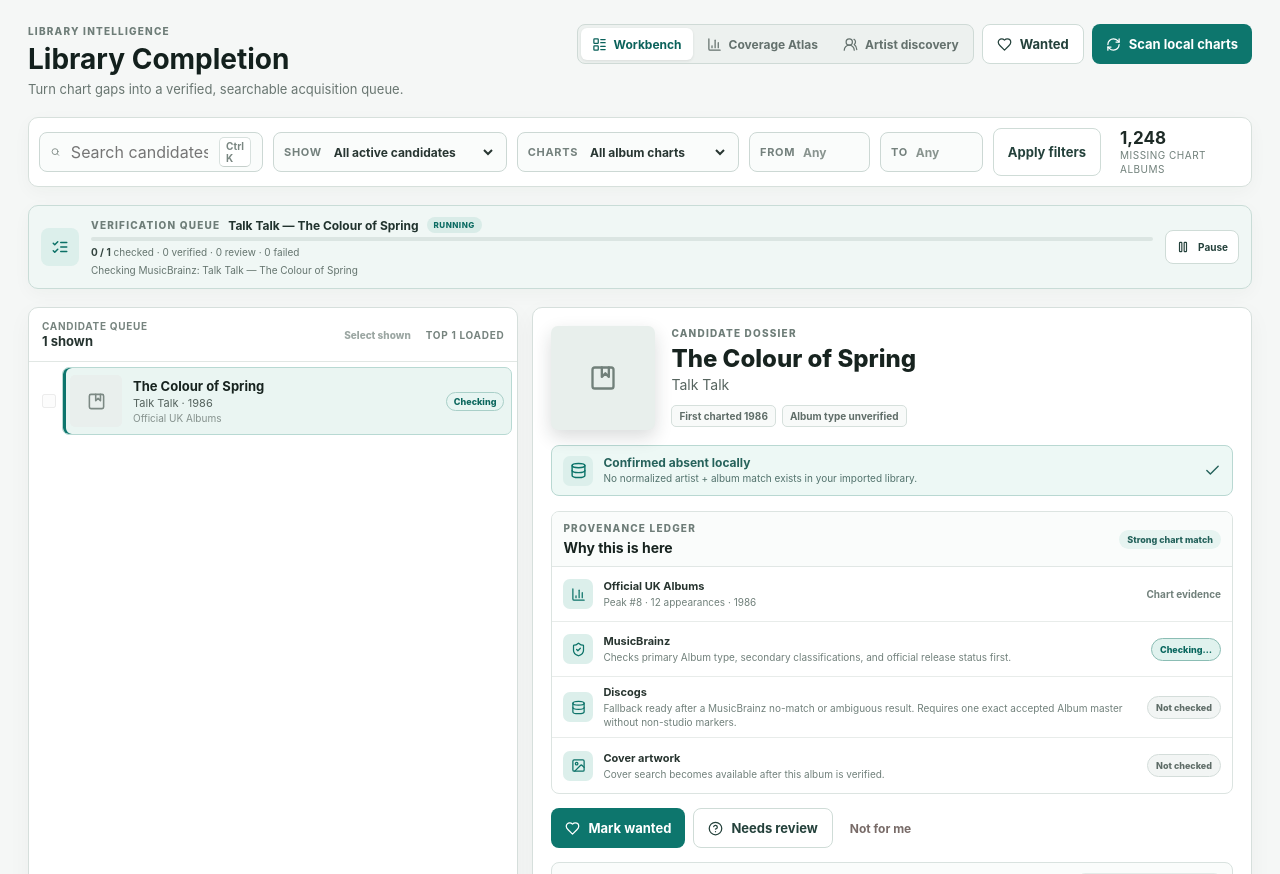
Test: LibraryCompletionWorkspace › pauses a running verification batch without discarding progress
Check: the text "0 / 1" is shown, box left=91, top=246, right=111, bottom=258
Click the button "Pause": click(1202, 247) left=1165, top=230, right=1239, bottom=264
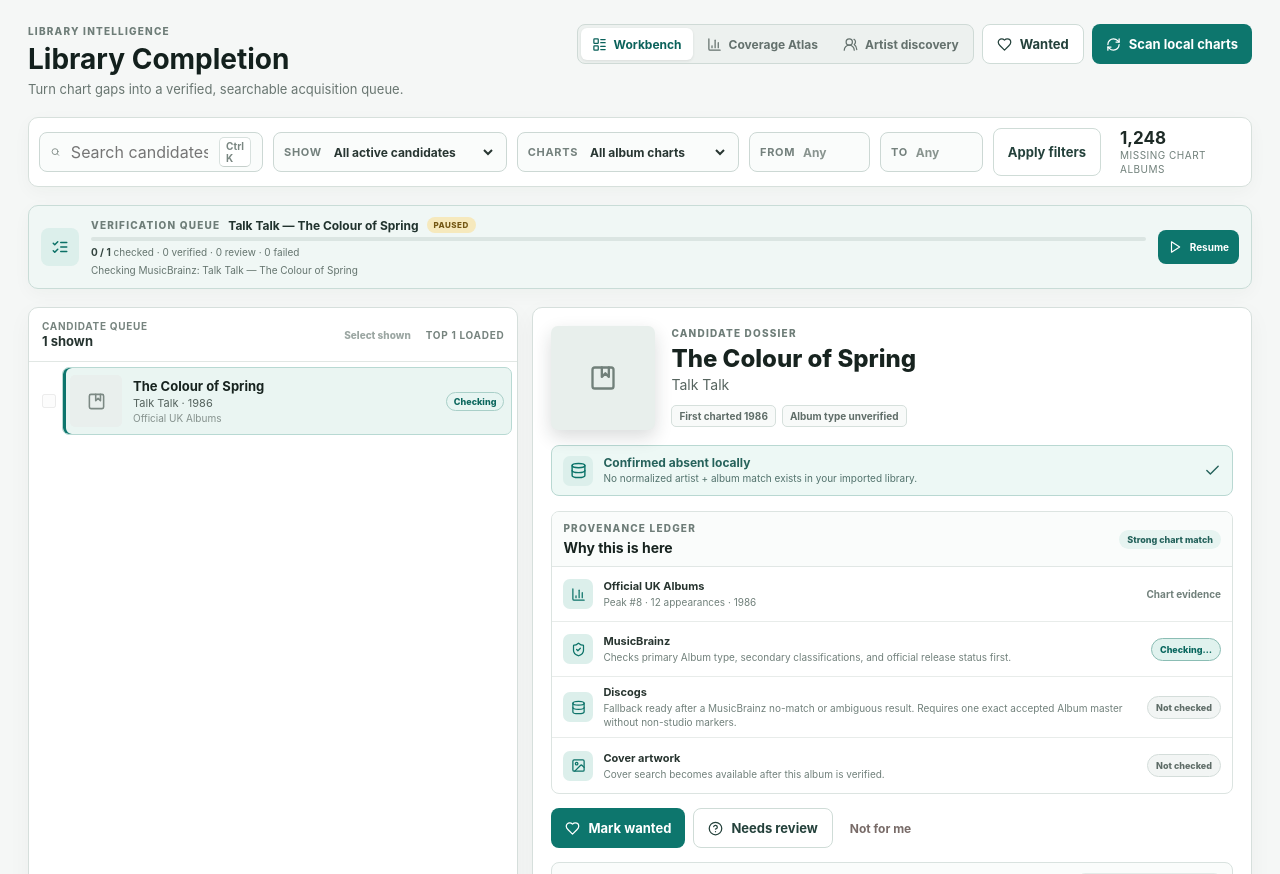
Check: the text "Checking MusicBrainz: Talk Talk — The Colour of Spring" is shown, box left=91, top=264, right=358, bottom=276
Check: the button "Resume" is shown, box left=1158, top=230, right=1239, bottom=264
